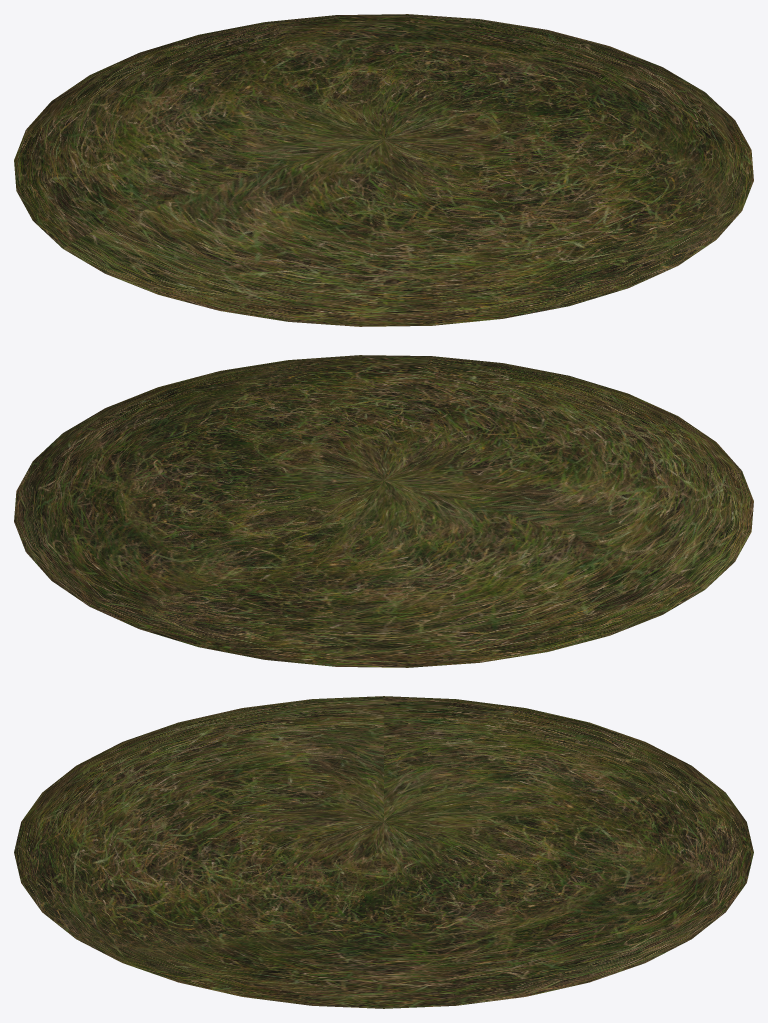
The model's file is ground.obj.
The picture shows the model from 3 angles, top to bottom: view 1: azimuth 30°, elevation 25°; view 2: azimuth 150°, elevation 25°; view 3: azimuth 270°, elevation 25°; orthographic projection.
Parts seen in each view (by area): view 1: Ground; view 2: Ground; view 3: Ground.
Part boxes in pixels (left/top/right/bottom): Ground: left=14, top=14, right=753, bottom=326; Ground: left=14, top=355, right=753, bottom=667; Ground: left=14, top=696, right=753, bottom=1008.
Size of the model in its own units: 78.46 by 3.62 by 78.46.
Materials: 1 (1 with a texture image).
